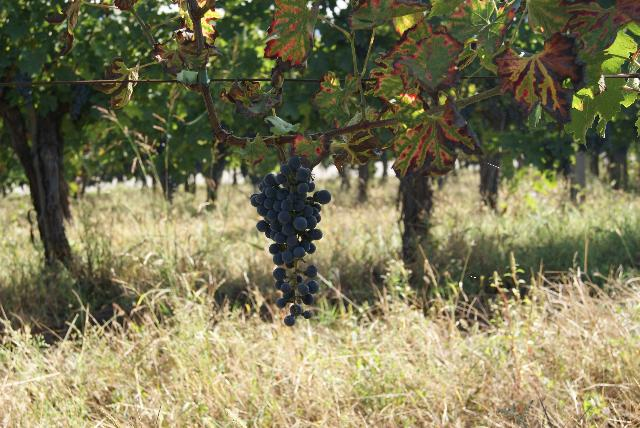grapes: (250, 155, 331, 326)
